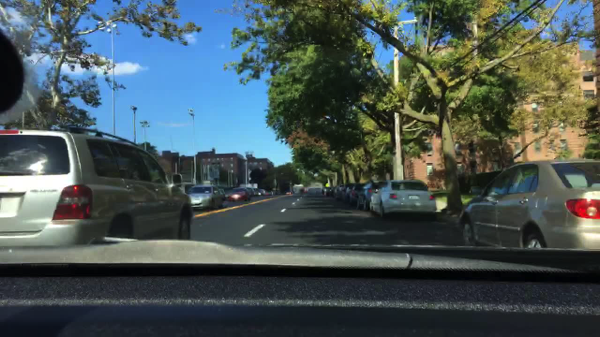car: (0, 126, 192, 247), (457, 158, 599, 251), (369, 179, 437, 220), (184, 185, 225, 210), (361, 181, 391, 210), (348, 185, 364, 206), (227, 189, 251, 202), (342, 187, 354, 204), (334, 186, 345, 202), (323, 187, 334, 197), (219, 188, 227, 199), (251, 187, 260, 196), (285, 190, 294, 197), (300, 187, 308, 194), (259, 190, 266, 196), (321, 187, 325, 196), (265, 191, 272, 196)
